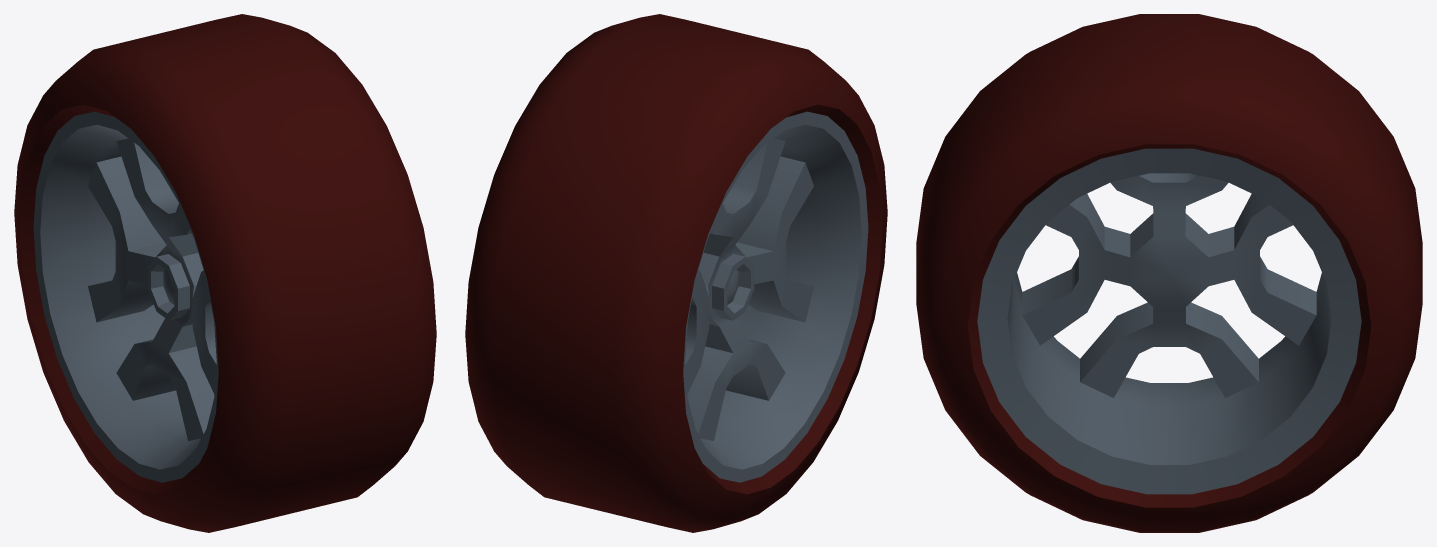
3 views of the same model, side by side, from view 1: azimuth 30°, elevation 25°; view 2: azimuth 150°, elevation 25°; view 3: azimuth 270°, elevation 25° (orthographic).
Visible parts, largest first — view 1: W5B; view 2: W5B; view 3: W5B.
Boxes of the visible parts, x1=… form: W5B: x1=14, y1=14, x2=436, y2=532; W5B: x1=465, y1=14, x2=887, y2=532; W5B: x1=916, y1=14, x2=1422, y2=532.
Size of the model in its own units: 14.02 by 28.35 by 28.56.
